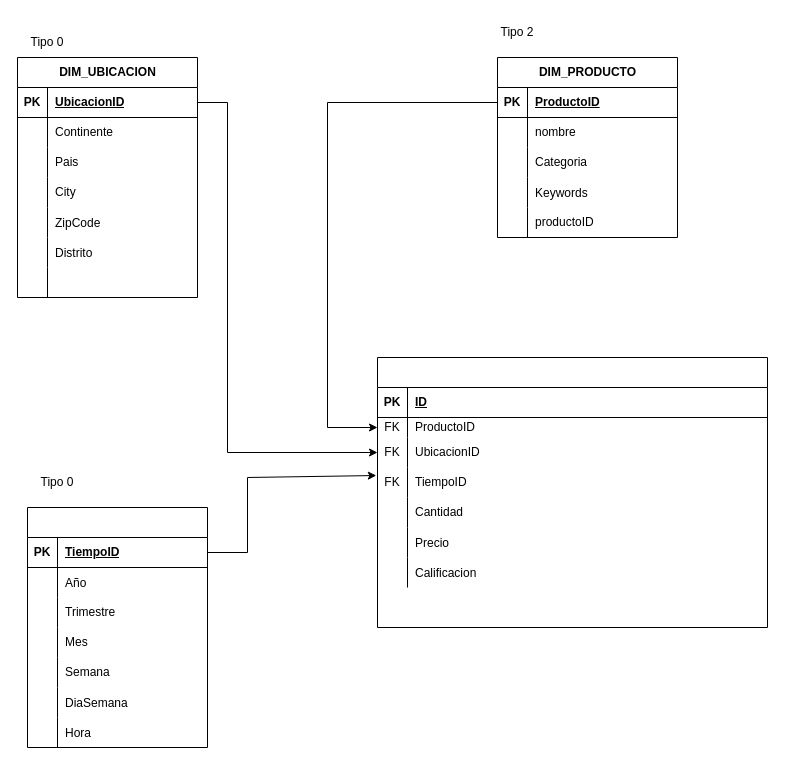
Image size: 785x765. Some labels were removed from this diagram. The shapes that lost their labels are listed below. From the top down, each one's box as (x1, y1, x2, y2) in pixels, then its label:
(376, 356, 768, 628): FACT_PRODUCTOS-MAS-VENDIDOS-POR-ZONA-Y-TIEMPO
(26, 506, 208, 748): DIM_TIEMPO
